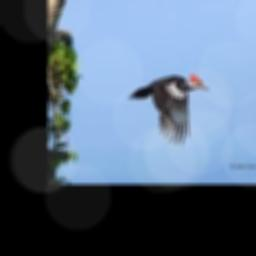Woodpecker: (127, 73, 209, 145)
